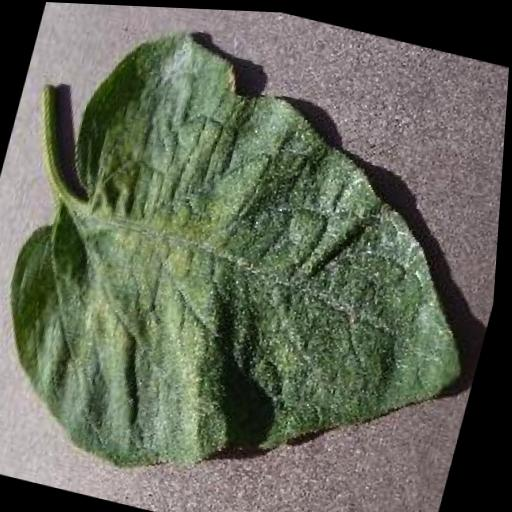Spider Mites: (0, 7, 512, 512)
